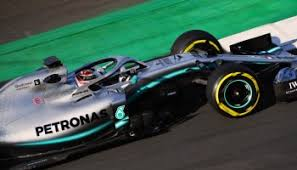FormulaOneCar: (3, 27, 297, 164)
